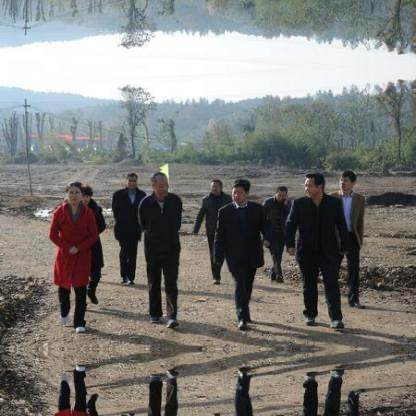No Safety Helmet: (333, 164, 367, 204), (144, 167, 177, 206), (225, 173, 257, 210), (301, 170, 331, 204), (62, 179, 92, 212), (117, 169, 141, 197), (205, 174, 227, 200), (273, 183, 293, 208), (79, 183, 96, 209)
